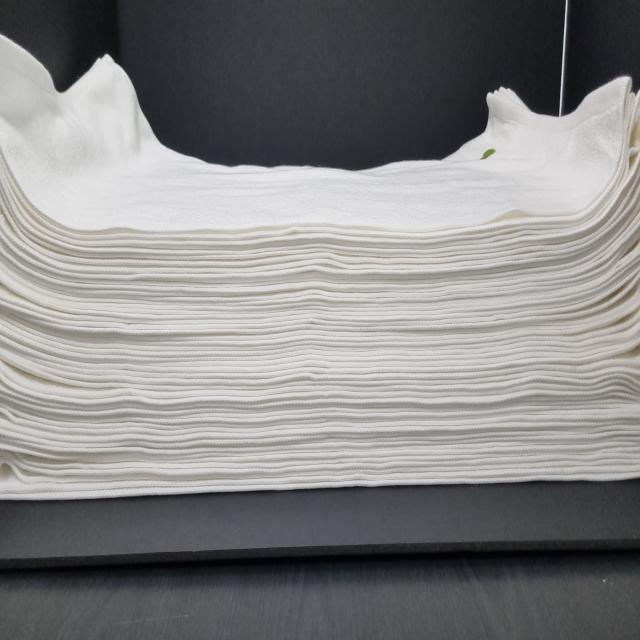50_towel_counts: (0, 25, 640, 502)
